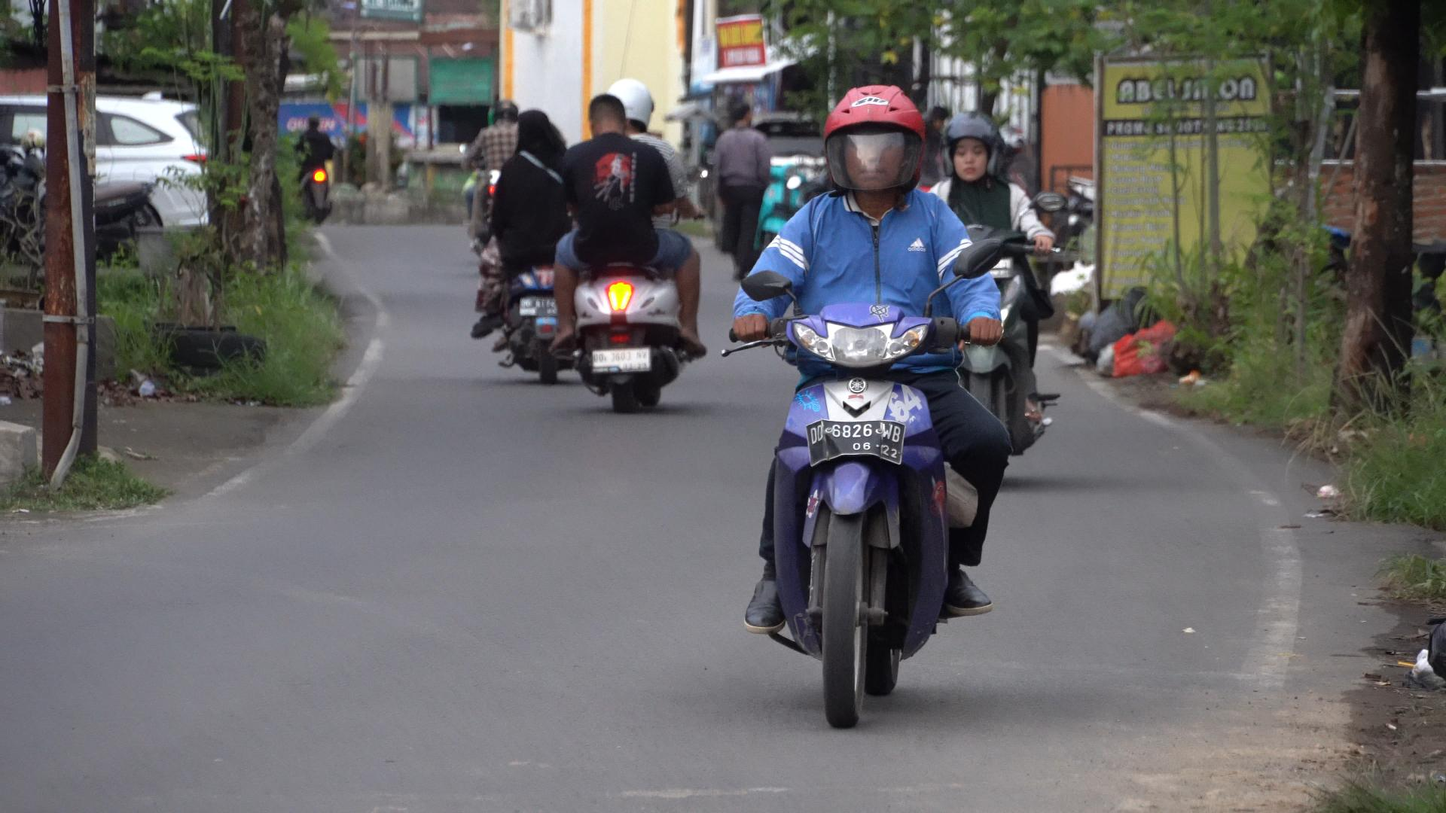number-plate: (801, 420, 912, 464)
